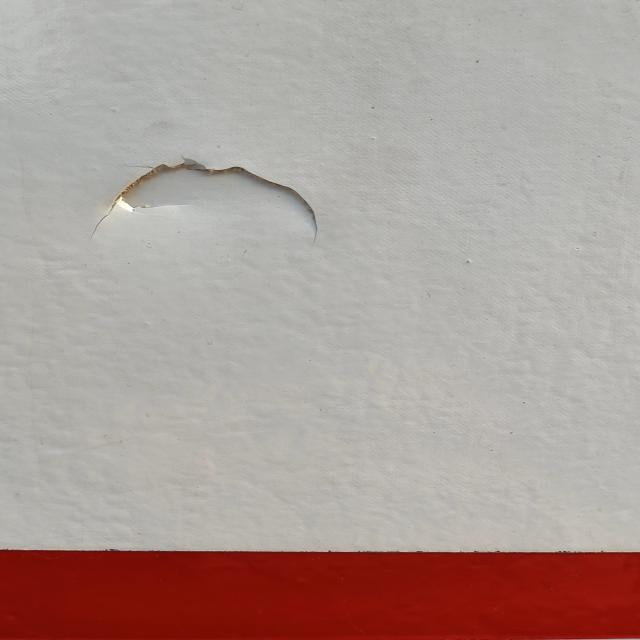Scratches: (70, 145, 350, 255)
